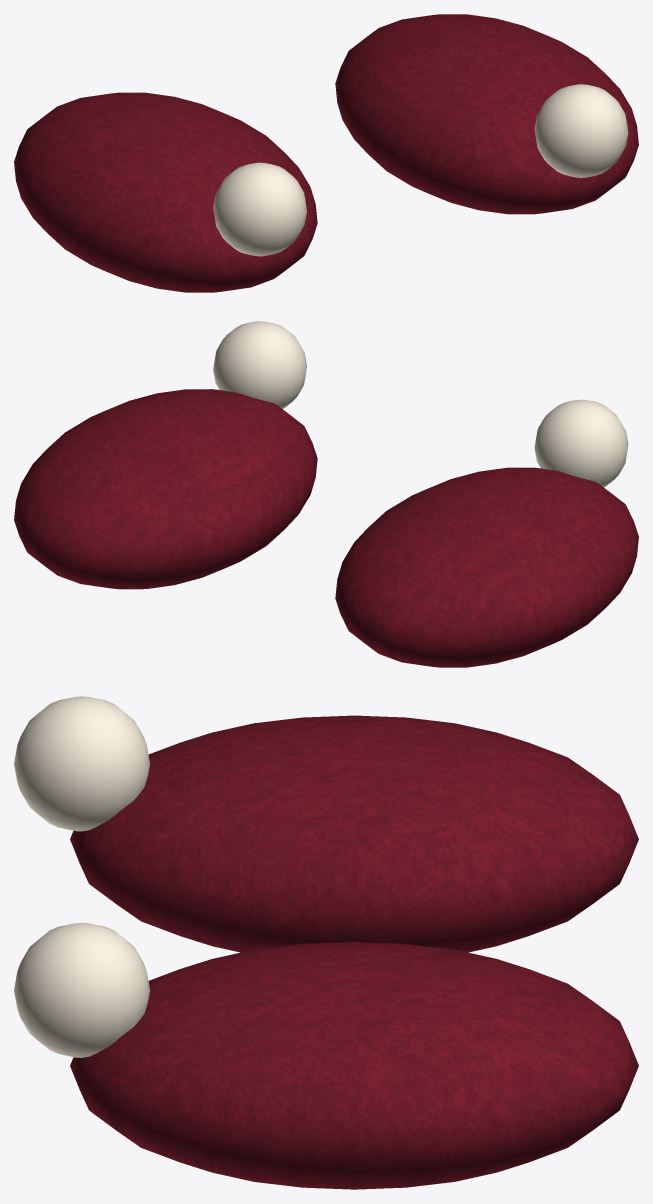
The model's file is slippers4.fbx.
3 renders of one model, top to bottom at view 1: azimuth 30°, elevation 25°; view 2: azimuth 150°, elevation 25°; view 3: azimuth 270°, elevation 25°, orthographic. The views are drawn at different scales.
Parts seen in each view (by area): view 1: slippers4; view 2: slippers4; view 3: slippers4.
Boxes of the visible parts, bbox=[...] form: slippers4: bbox=[14, 14, 638, 292]; slippers4: bbox=[14, 321, 638, 667]; slippers4: bbox=[14, 696, 638, 1189].
Bounding box in the file's own units: 0.61 × 0.16 × 0.413.
2 materials, 1 textured.
